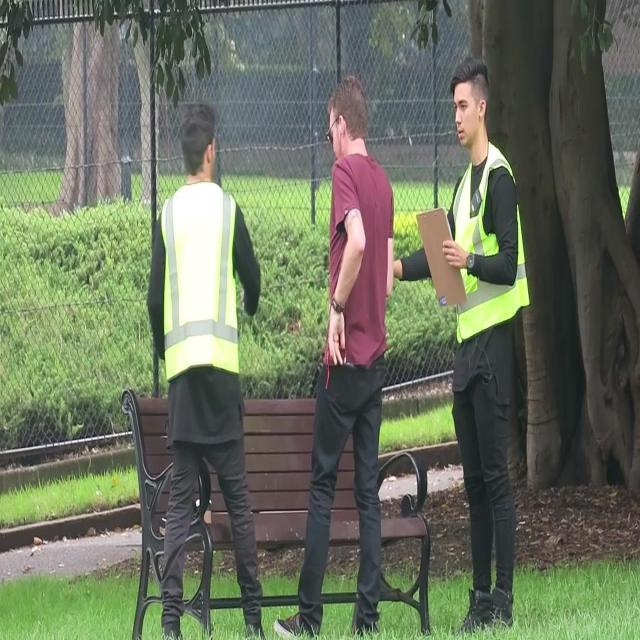Vest: (161, 182, 243, 380), (451, 143, 531, 344)
